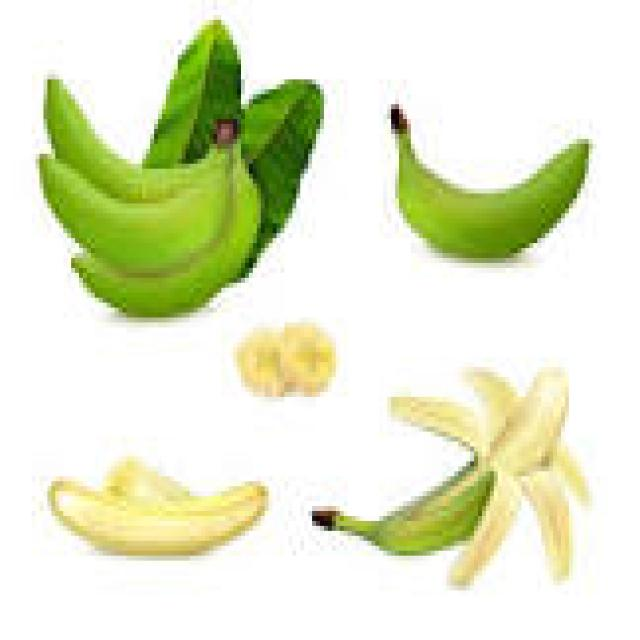banana: (313, 368, 588, 585), (72, 149, 260, 317), (392, 105, 588, 257), (40, 149, 233, 277), (44, 80, 221, 203), (313, 462, 493, 555), (52, 482, 268, 555), (238, 323, 335, 396), (103, 457, 189, 506), (281, 323, 335, 396), (238, 328, 288, 396)
